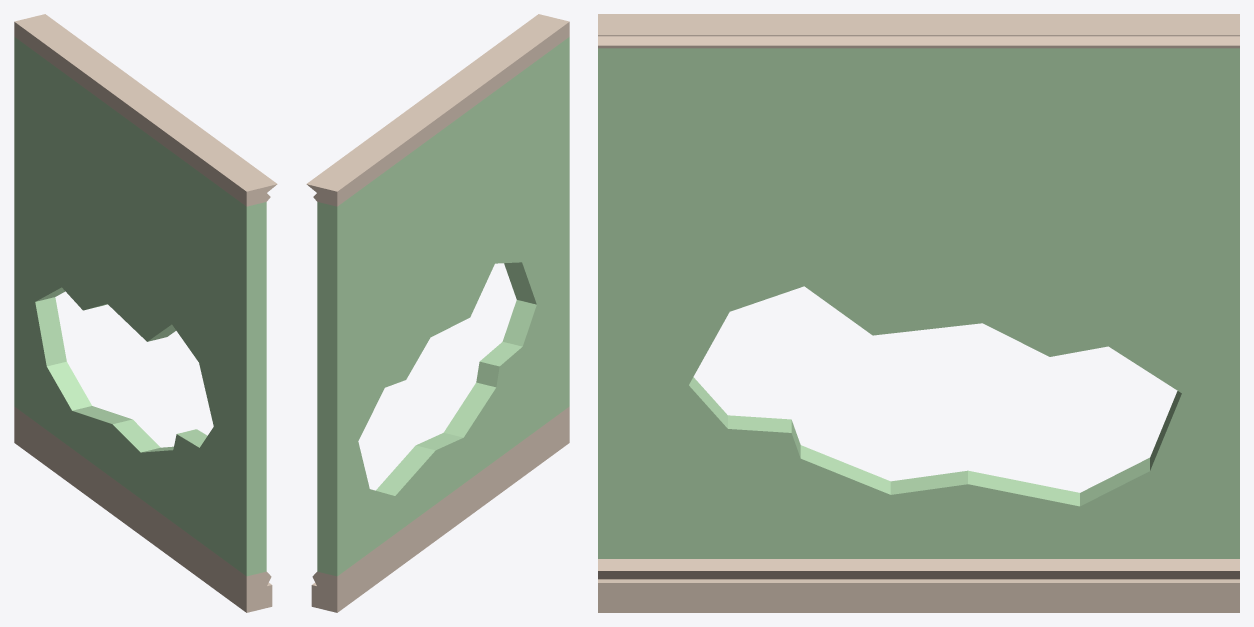
Rendered from Wall_LargeHole1.fbx.
3 renders of one model, left to right at view 1: azimuth 30°, elevation 25°; view 2: azimuth 150°, elevation 25°; view 3: azimuth 270°, elevation 25°, orthographic. The views are drawn at different scales.
Visible parts, largest first — view 1: Cube; view 2: Cube; view 3: Cube.
Part boxes in pixels (<box>): Cube: <box>14,14,277,612</box>; Cube: <box>306,14,569,612</box>; Cube: <box>598,14,1239,612</box>.
Size of the model in its own units: 61.8 by 800 by 800.
